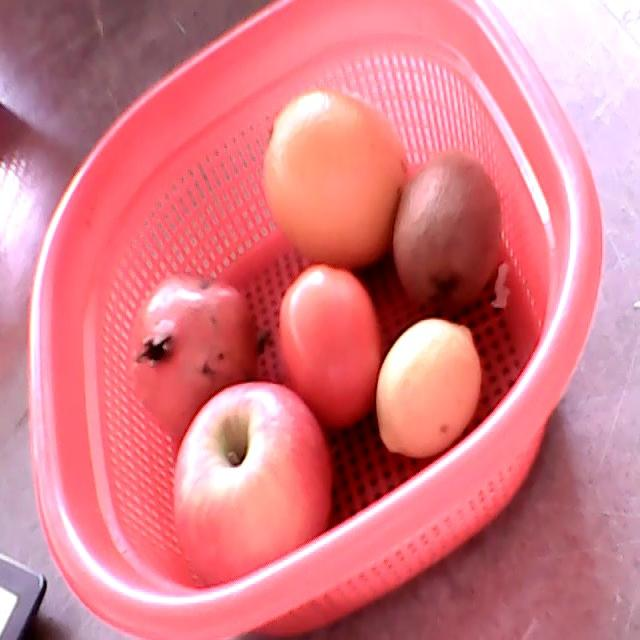apple: (173, 381, 334, 586)
kiwi: (393, 147, 502, 312)
lemon: (375, 318, 481, 458)
orange: (261, 89, 407, 268)
pomegranate: (125, 273, 256, 435)
tomato: (279, 263, 382, 427)
